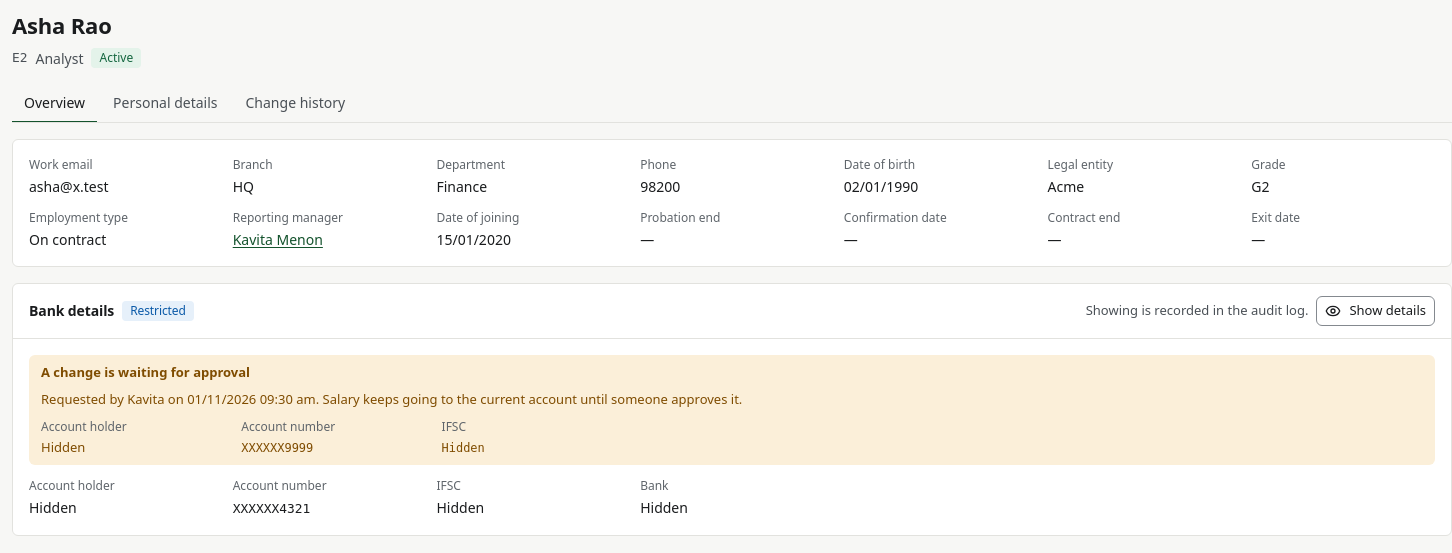
Test: employee record › bank details › stays hidden until shown, and showing asks both answers with reveal=1
Expected: the text "XXXXXX4321" is shown, [233, 501, 310, 516]
Expected: the text "Showing is recorded in the audit log." is shown, [1086, 301, 1308, 320]
Click the button "Show details" at (1376, 310), box [1316, 296, 1435, 326]
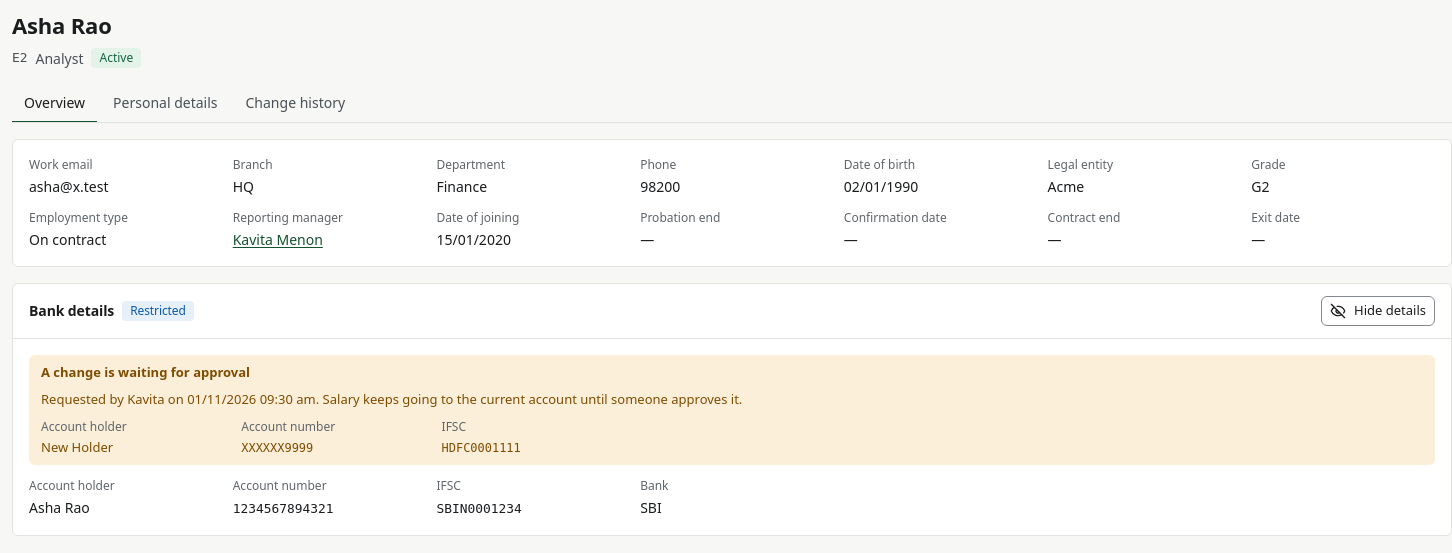
Now the text "SBIN0001234" is shown, box [436, 501, 522, 516]
Now the text "1234567894321" is shown, box [233, 501, 334, 516]
Now the text "New Holder" is shown, box [41, 438, 113, 456]
Click the button "Hide details" at (1378, 310), box [1321, 296, 1435, 326]
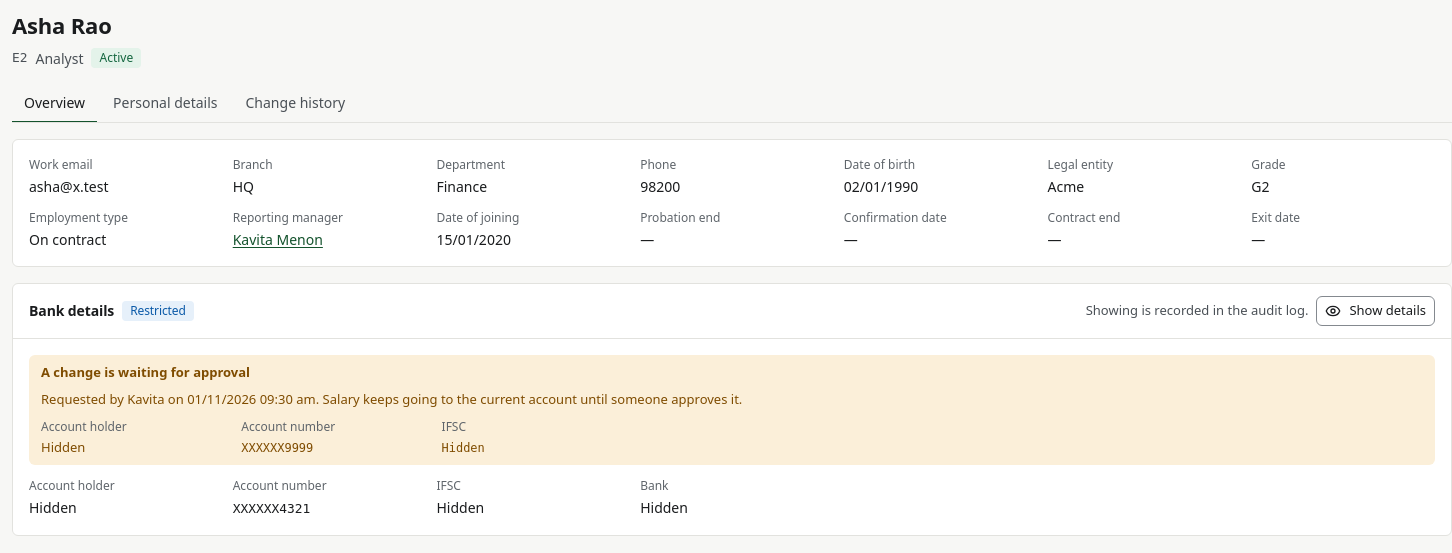
Now the text "SBIN0001234" is gone
